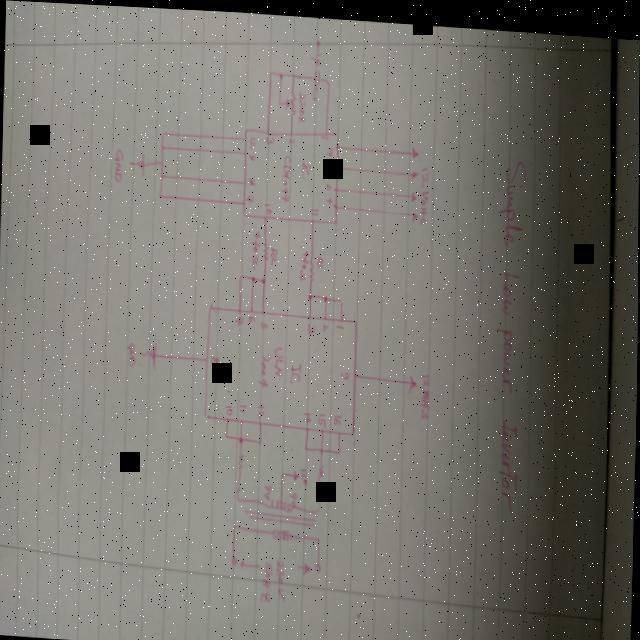capacitor: (313, 64, 321, 83)
ground: (140, 338, 158, 367), (129, 148, 146, 174)
junction: (236, 483, 242, 499), (233, 518, 240, 528), (308, 288, 314, 298), (316, 499, 322, 509), (279, 67, 284, 77), (325, 73, 331, 81), (251, 271, 257, 279), (319, 442, 325, 450), (239, 431, 245, 439), (224, 428, 230, 436), (316, 531, 322, 538), (277, 95, 282, 103), (261, 273, 266, 281), (239, 269, 244, 277), (323, 290, 328, 298), (304, 439, 309, 447), (258, 433, 263, 441), (161, 128, 167, 134), (269, 66, 274, 73), (337, 443, 342, 450), (161, 169, 165, 177), (159, 189, 163, 197), (160, 141, 165, 147), (292, 68, 296, 75), (339, 293, 343, 300), (161, 156, 165, 162), (281, 466, 285, 472)
resistor: (285, 86, 297, 114), (237, 446, 245, 473), (309, 252, 315, 278), (263, 237, 269, 257), (318, 458, 324, 476)
source: (408, 369, 418, 389), (412, 140, 420, 154), (412, 205, 419, 218), (411, 163, 419, 174), (411, 185, 417, 197), (294, 464, 300, 476)
terminal: (315, 555, 323, 568), (232, 551, 238, 561)
text: (491, 150, 529, 510), (419, 160, 430, 221), (260, 555, 275, 599), (281, 150, 293, 198), (420, 367, 431, 415), (258, 348, 272, 385), (276, 554, 287, 598), (251, 226, 262, 266), (114, 145, 125, 180), (299, 244, 310, 278), (274, 341, 285, 373), (297, 86, 307, 120), (310, 36, 322, 62), (290, 358, 302, 380), (127, 339, 137, 364), (302, 156, 312, 175), (271, 242, 279, 262), (264, 479, 273, 496), (301, 463, 309, 481), (303, 406, 313, 420), (258, 400, 266, 417), (210, 350, 221, 362), (235, 310, 245, 323), (319, 407, 327, 423), (334, 409, 344, 421), (290, 486, 298, 501), (264, 197, 272, 211), (250, 132, 257, 148), (341, 365, 351, 376), (307, 318, 316, 330), (312, 82, 319, 97), (266, 132, 276, 142), (317, 251, 325, 263), (226, 400, 234, 412), (327, 141, 335, 153), (247, 190, 255, 202), (310, 203, 319, 213), (248, 173, 257, 183), (288, 131, 296, 142), (261, 316, 269, 326), (335, 318, 345, 326), (239, 399, 247, 409), (325, 191, 333, 201), (249, 311, 257, 320), (326, 160, 334, 169), (322, 318, 329, 328), (248, 149, 256, 157), (326, 178, 332, 187), (321, 130, 329, 136)
transformer: (245, 492, 318, 539)
